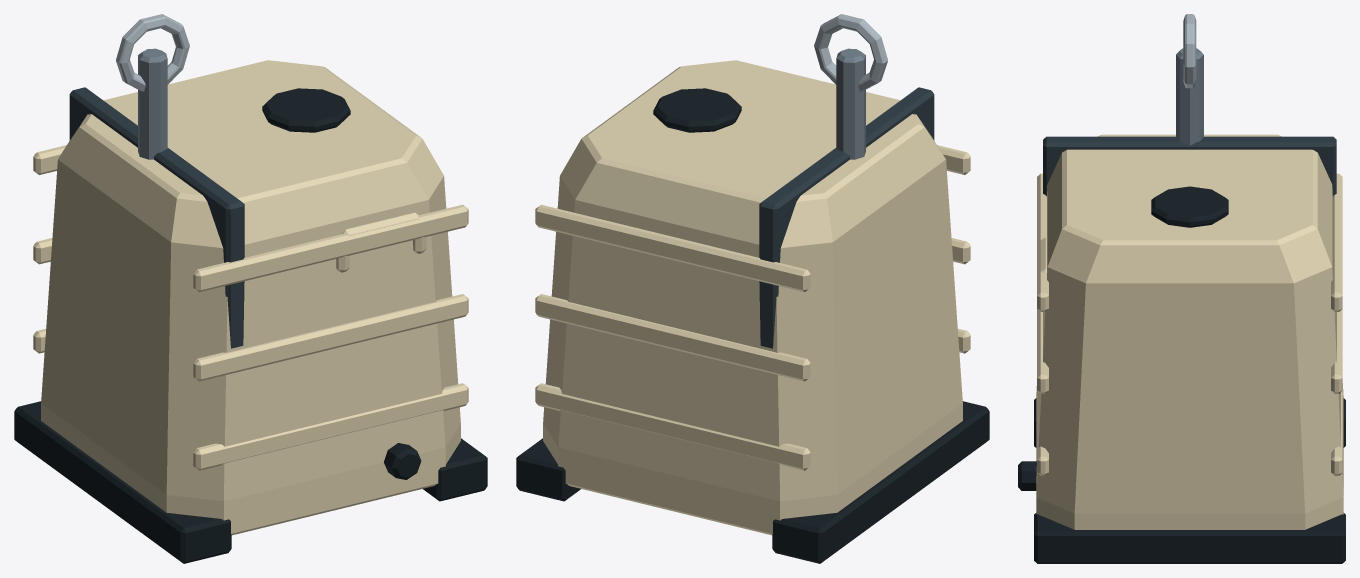
Rendered from b20_event_tent_ballast_water_tank.glb.
3 renders of one model, left to right at view 1: azimuth 30°, elevation 25°; view 2: azimuth 150°, elevation 25°; view 3: azimuth 270°, elevation 25°, orthographic. The views are drawn at different scales.
Parts seen in each view (by area): view 1: b20_event_tent_ballast_water_tank; view 2: b20_event_tent_ballast_water_tank; view 3: b20_event_tent_ballast_water_tank.
Part boxes in pixels (x1,y1,x2,y2): b20_event_tent_ballast_water_tank: (14,14,487,563); b20_event_tent_ballast_water_tank: (516,14,989,563); b20_event_tent_ballast_water_tank: (1018,14,1345,563).
Bounding box in the file's own units: 0.72 × 1.06 × 0.725.
